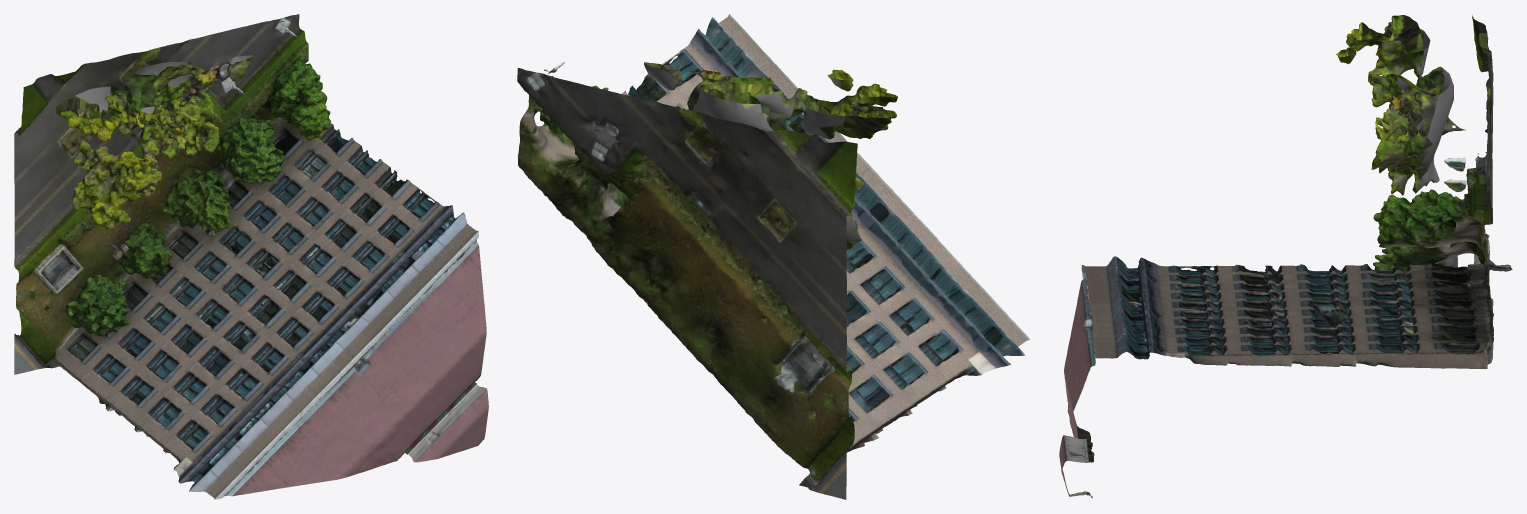
Rendered from Tile_+008_+021.fbx.
3 views of the same model, side by side, from view 1: azimuth 30°, elevation 25°; view 2: azimuth 150°, elevation 25°; view 3: azimuth 270°, elevation 25° (orthographic). The views are drawn at different scales.
Visible parts, largest first — view 1: DefaultName; view 2: DefaultName; view 3: DefaultName.
Boxes of the visible parts, x1=… form: DefaultName: x1=14, y1=14, x2=488, y2=499; DefaultName: x1=517, y1=14, x2=1030, y2=499; DefaultName: x1=1059, y1=15, x2=1512, y2=497.
Size of the model in its own units: 22.54 by 22.54 by 27.96.
